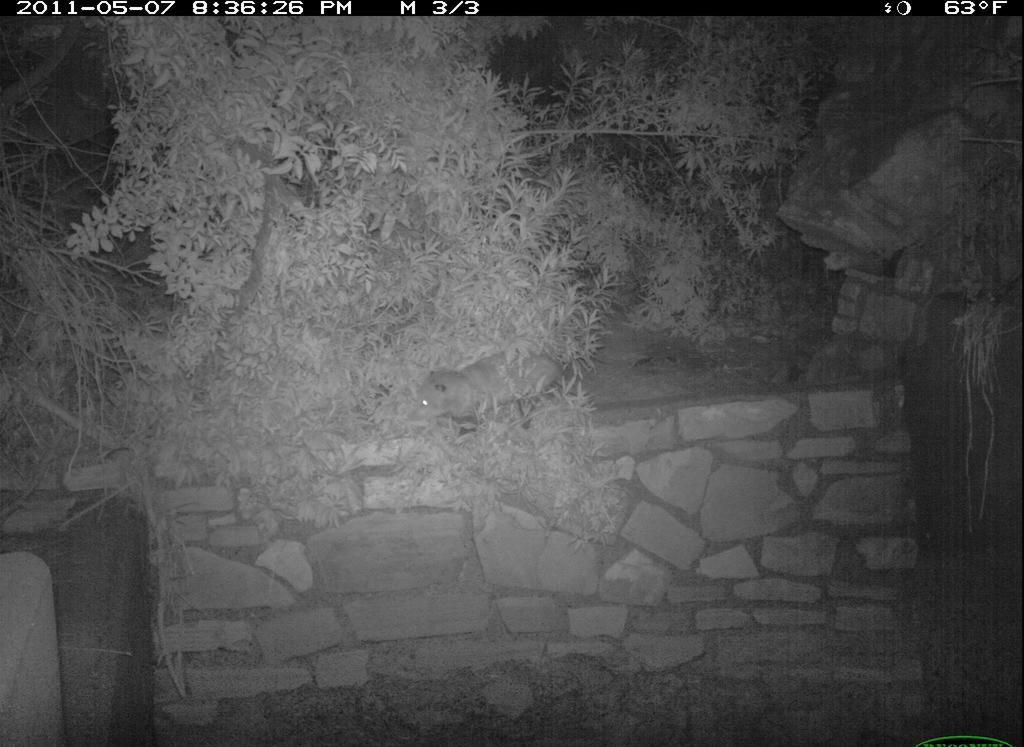opossum: (411, 345, 591, 434)
